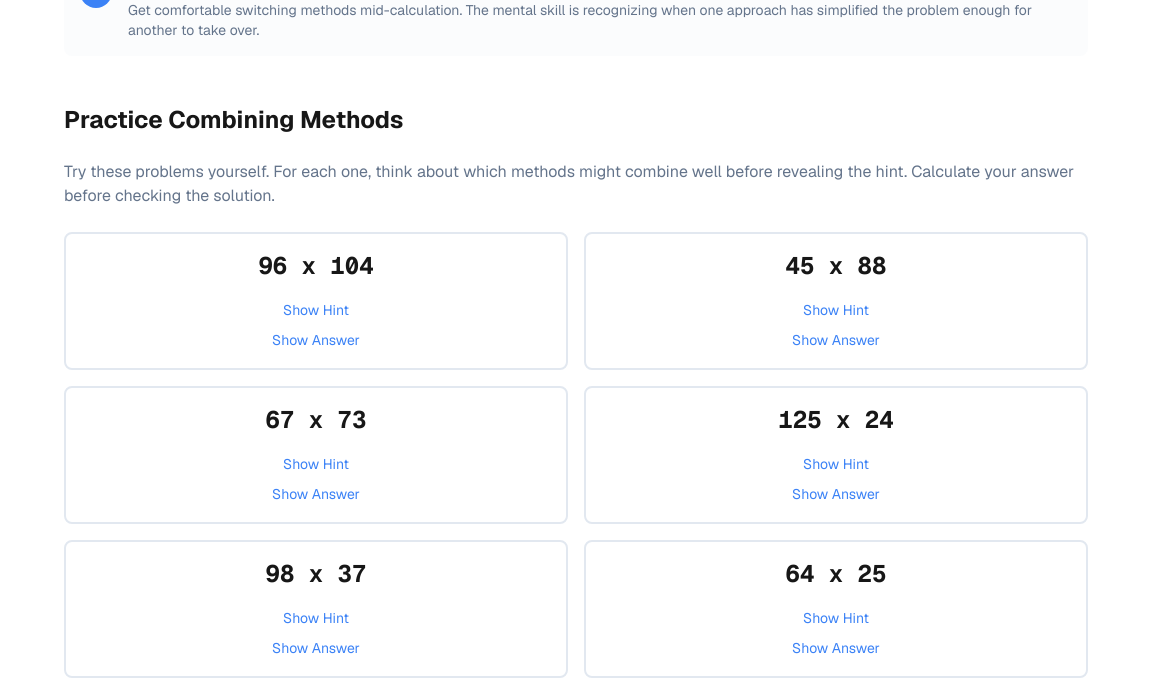
Test: CombiningTechniquesPage › practice exercises section › should toggle answer visibility
The width and height of the screenshot is (1152, 700).
(page scrolled)
Click to show answer
Click the 1st button "Show Answer" at (316, 340), box [82, 330, 550, 350]
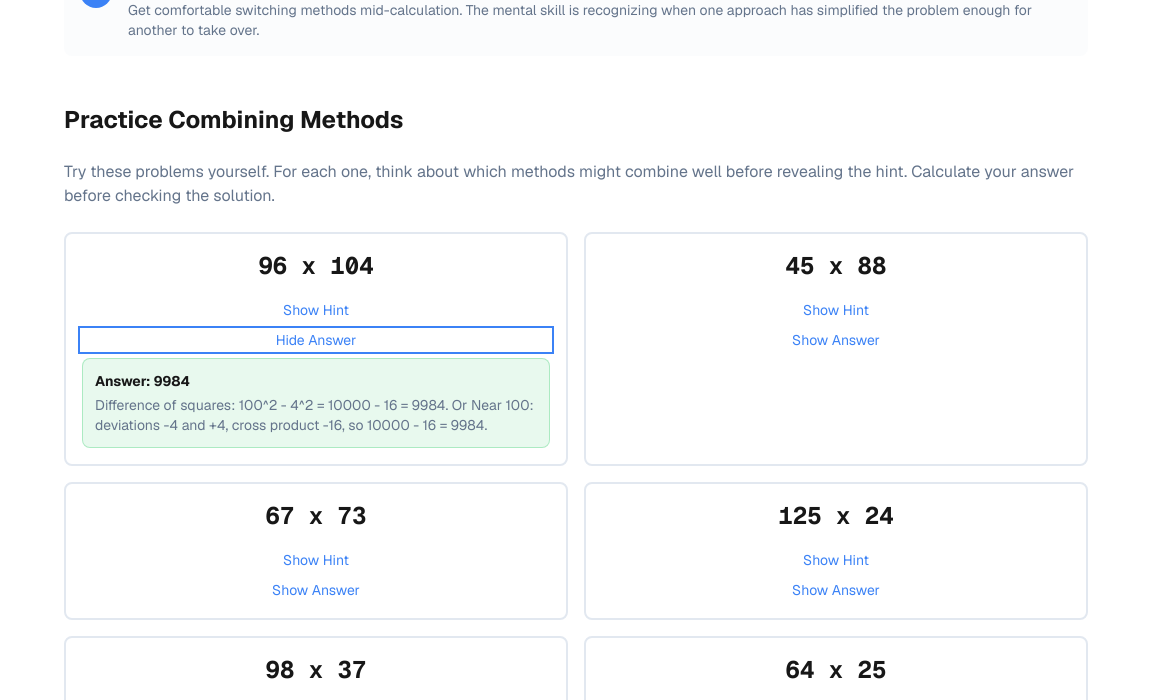
Result: the button "show answer" reads "Hide Answer" at [82, 330, 550, 350]
Result: the text "Answer: 9984" is shown at [95, 372, 190, 390]
